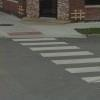crosswalks: (13, 38, 100, 84)
